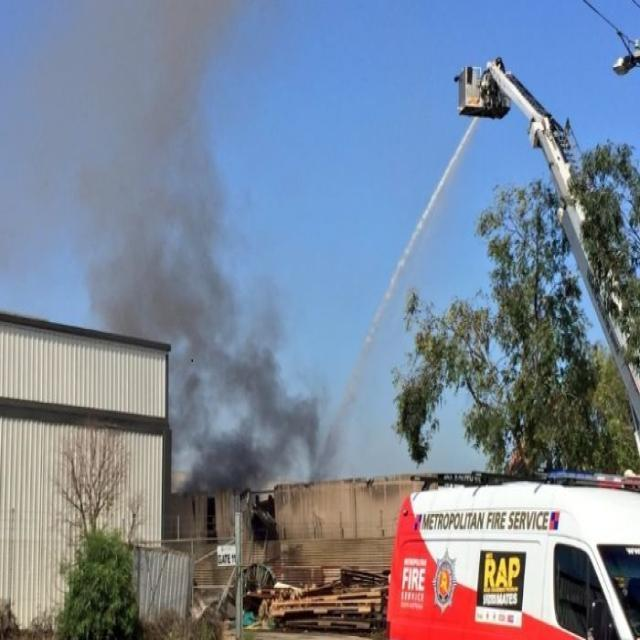Smoke: (40, 17, 298, 314), (176, 322, 326, 520)
